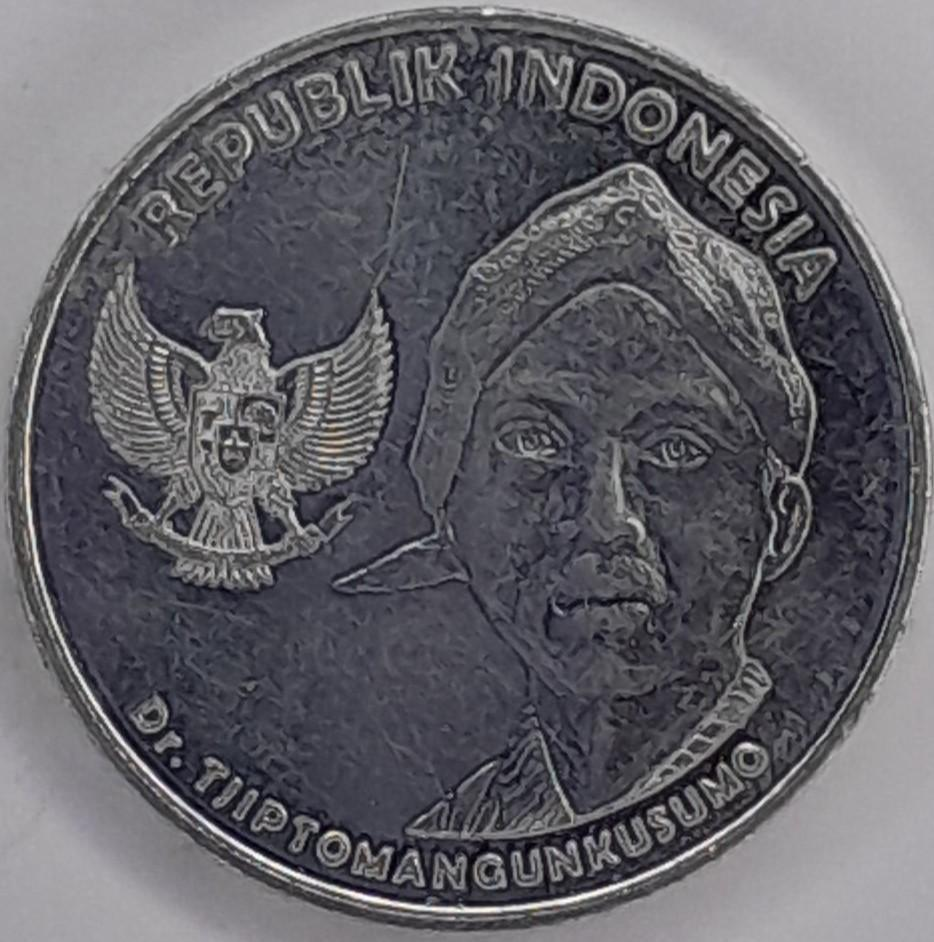coin_200_e2016: (0, 16, 934, 942)
